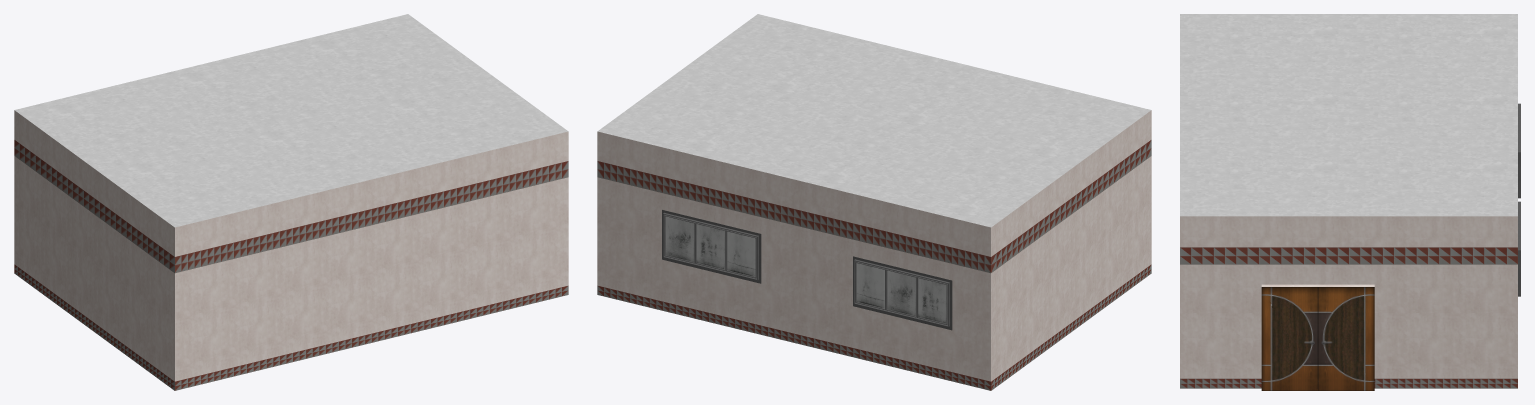
File: Room1.fbx
3 renders of one model, left to right at view 1: azimuth 30°, elevation 25°; view 2: azimuth 150°, elevation 25°; view 3: azimuth 270°, elevation 25°, orthographic. The views are drawn at different scales.
Visible parts, largest first — view 1: Main_Layer; view 2: Main_Layer; view 3: Main_Layer.
Part boxes in pixels (left/top/right/bottom): Main_Layer: left=14, top=14, right=568, bottom=390; Main_Layer: left=597, top=14, right=1151, bottom=390; Main_Layer: left=1180, top=14, right=1520, bottom=390.
Bounding box in the file's own units: 871 × 341 × 613.
